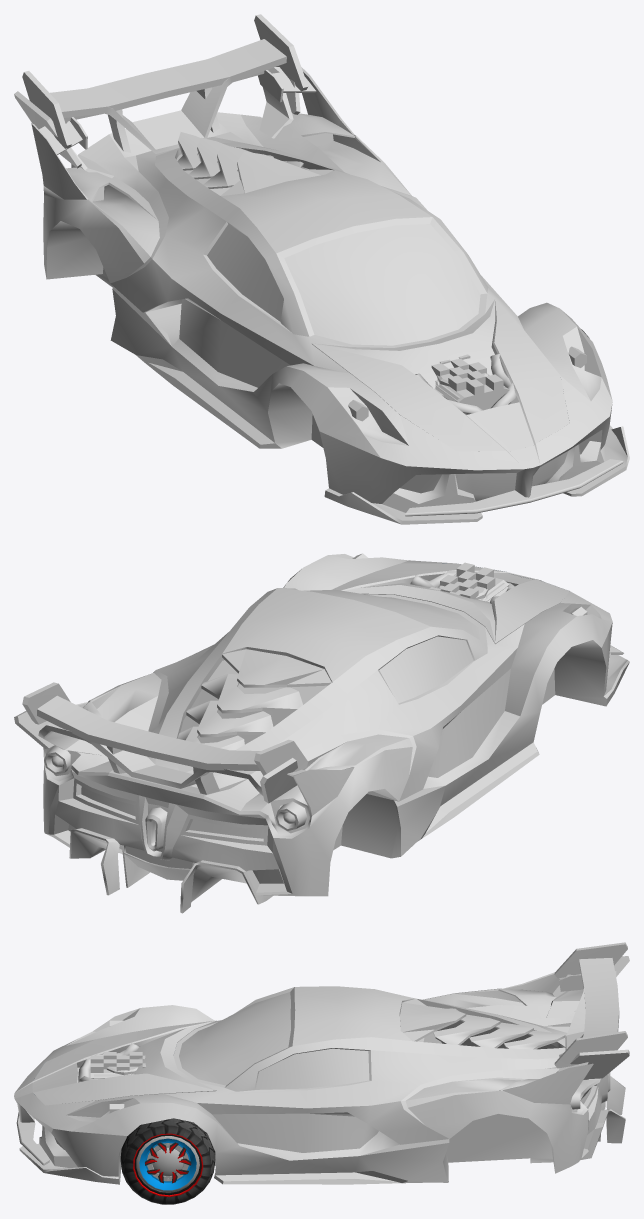
File: Car_PLA_Update.fbx
3 views of the same model, one above another, from view 1: azimuth 30°, elevation 25°; view 2: azimuth 150°, elevation 25°; view 3: azimuth 270°, elevation 25° (orthographic). The views are drawn at different scales.
Visible parts, largest first — view 1: Car_PlayableAds, Lapoto, Spoiler_02, Spoiler_03, Spoiler_01, Engine_01, Engine_02; view 2: Car_PlayableAds, Spoiler_02, Lapoto, Spoiler_03, Spoiler_01, Engine_01, Engine_02; view 3: Car_PlayableAds, Lapoto, Spoiler_02, Wheel01, Spoiler_01, Spoiler_03, Wheel03, Wheel02, Engine_01, Engine_02.
Boxes of the visible parts, x1,y1,x2,y2 form: Car_PlayableAds: (43, 112, 629, 524); Lapoto: (311, 299, 569, 451); Spoiler_02: (22, 14, 308, 152); Spoiler_03: (14, 67, 300, 178); Spoiler_01: (31, 67, 354, 199); Engine_01: (431, 354, 518, 410); Engine_02: (415, 354, 518, 414); Car_PlayableAds: (43, 553, 629, 913); Spoiler_02: (22, 682, 307, 794); Lapoto: (331, 563, 569, 643); Spoiler_03: (14, 711, 297, 803); Spoiler_01: (43, 702, 354, 817); Engine_01: (429, 562, 509, 601); Engine_02: (410, 571, 514, 603); Car_PlayableAds: (14, 986, 625, 1184); Lapoto: (32, 1020, 216, 1105); Spoiler_02: (554, 942, 627, 1068); Wheel01: (120, 1118, 215, 1204); Spoiler_01: (503, 972, 593, 1104); Spoiler_03: (546, 956, 629, 1079); Wheel03: (136, 1136, 199, 1192); Wheel02: (134, 1134, 201, 1195); Engine_01: (90, 1052, 145, 1078); Engine_02: (78, 1043, 139, 1082).
Size of the model in its own units: 1.52 by 1.05 by 3.55.
